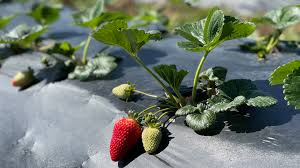ripe: (109, 112, 142, 163)
unripe: (141, 125, 162, 156), (110, 84, 136, 101), (11, 68, 34, 87)
